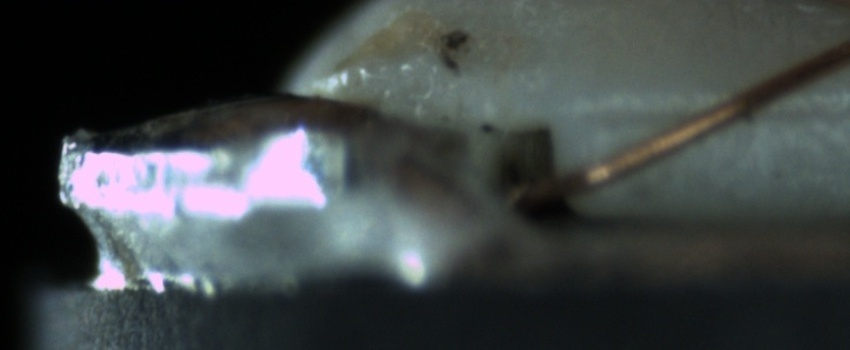DL: (577, 80, 845, 143)
